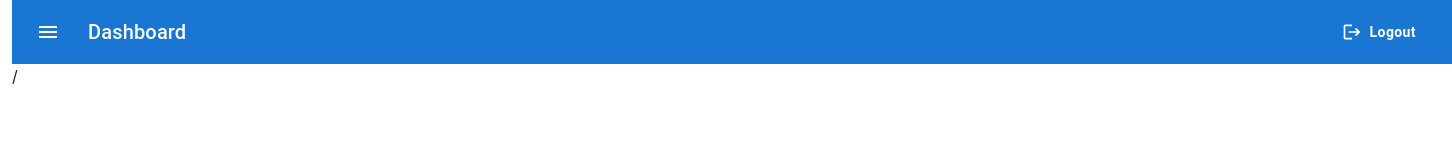
Test: profile-menu logout navigation › Dashboard for role 0 logs out and navigates to Login
The width and height of the screenshot is (1452, 160).
Click the button "Logout": (1381,32) [1334,14,1428,50]
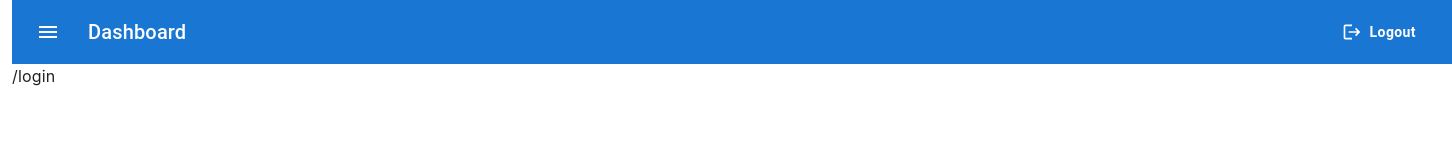
Expected: the text with test id "current-path" reads "/login", [12,66,55,86]
